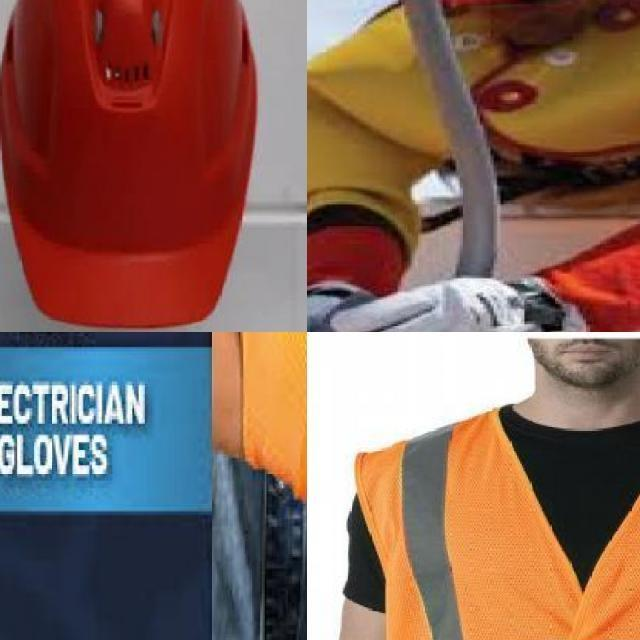apron: (230, 332, 307, 640), (329, 275, 593, 332)
